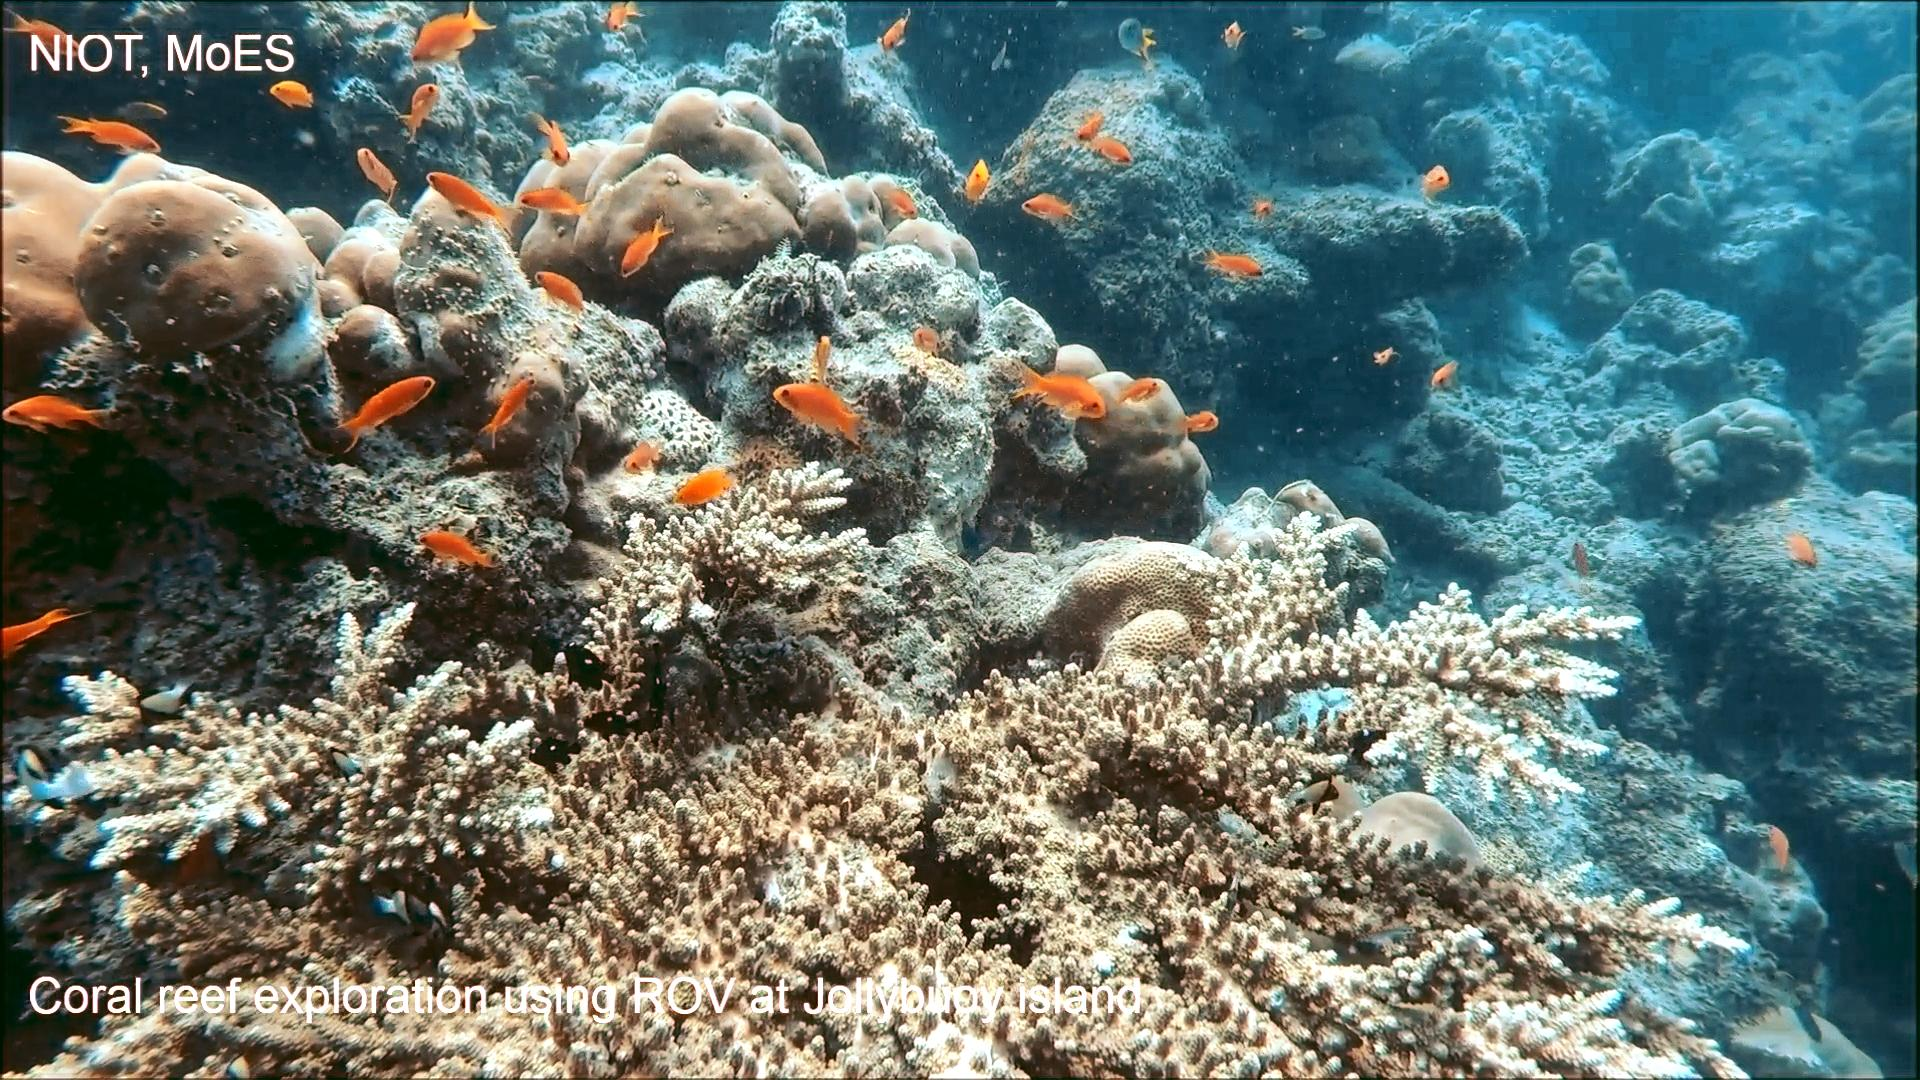Porites-Porites pukoensis: (504, 80, 890, 307), (3, 140, 320, 396)
